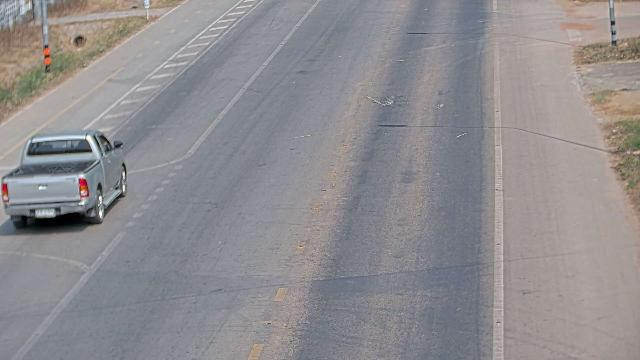pickup-truck: (1, 128, 127, 229)
